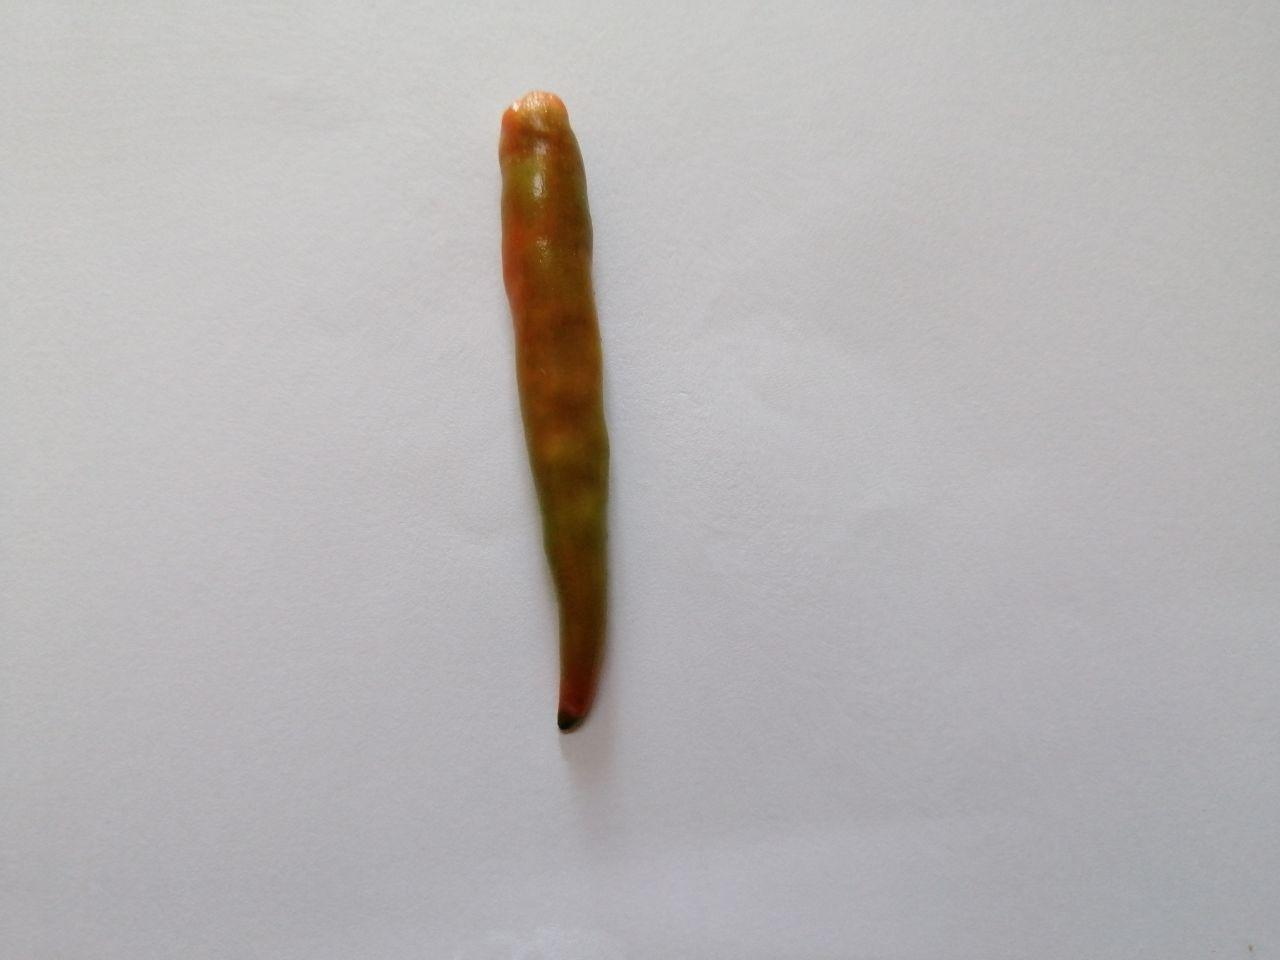lada kuning: (459, 81, 637, 771)
